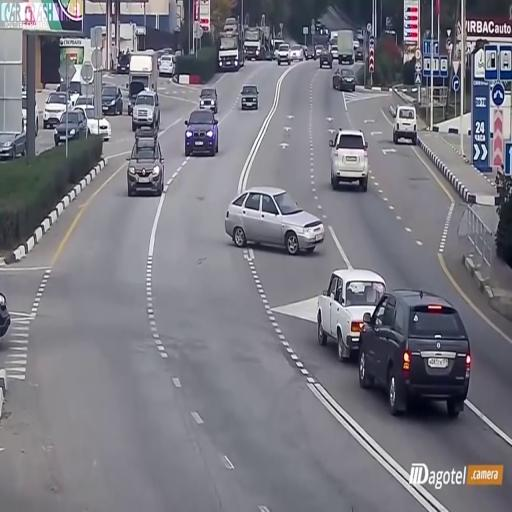小汽车: (361, 293, 474, 422), (220, 184, 329, 254), (316, 264, 372, 353), (328, 127, 374, 191), (125, 140, 164, 194), (183, 107, 221, 156), (130, 89, 160, 137), (389, 102, 421, 143), (242, 19, 268, 61), (216, 31, 242, 70), (53, 107, 80, 143), (335, 26, 359, 66), (98, 78, 124, 112), (42, 86, 63, 127), (330, 66, 358, 94), (238, 82, 260, 110), (156, 48, 176, 78), (196, 83, 220, 108), (276, 41, 292, 69)
